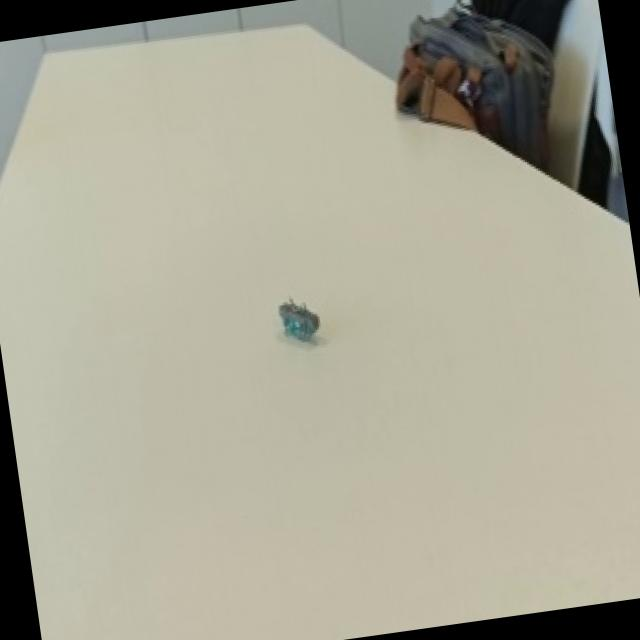5_NanoBug_GrisClaro: (264, 264, 338, 354)
